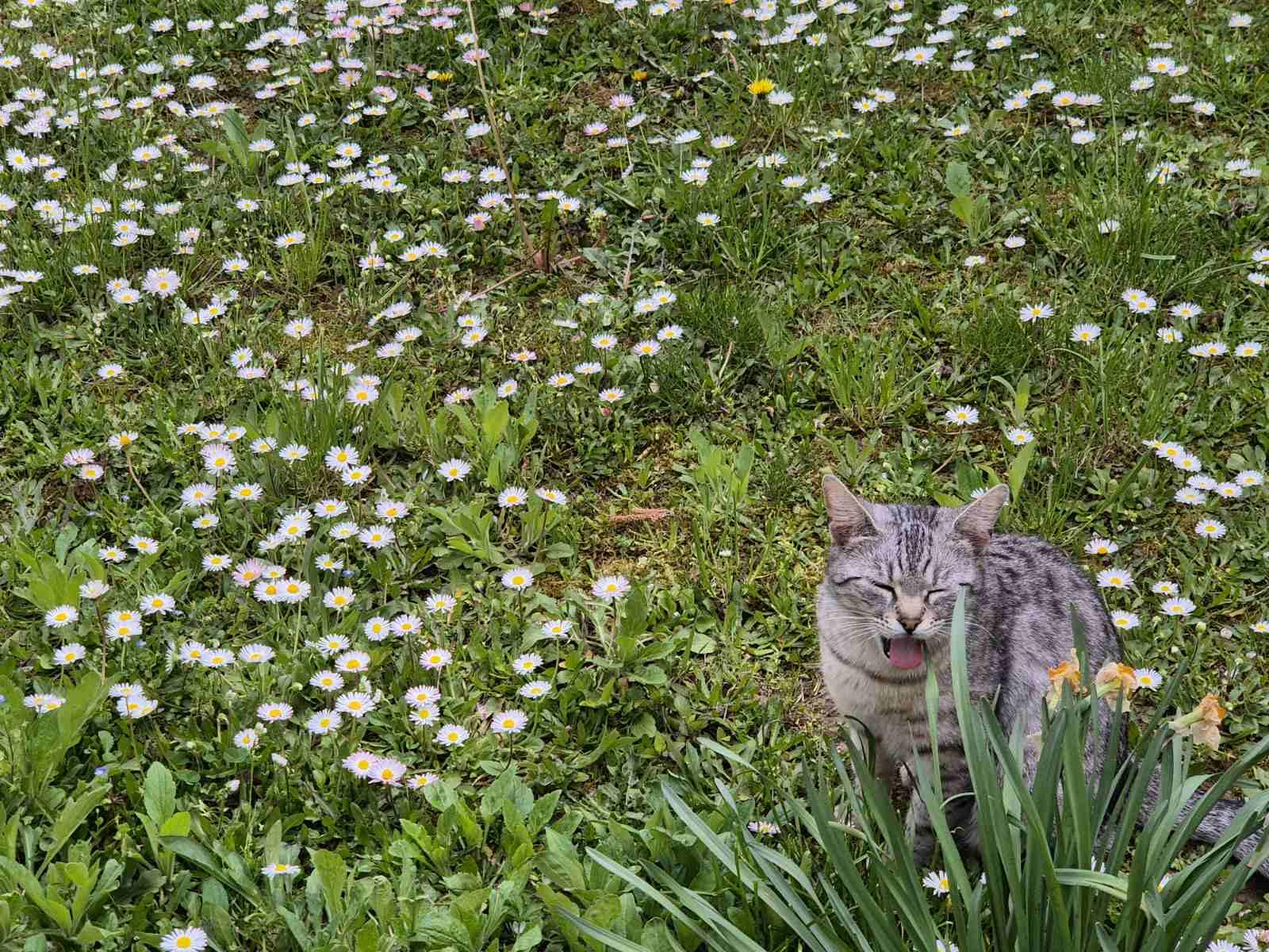macka: (817, 467, 1269, 925)
